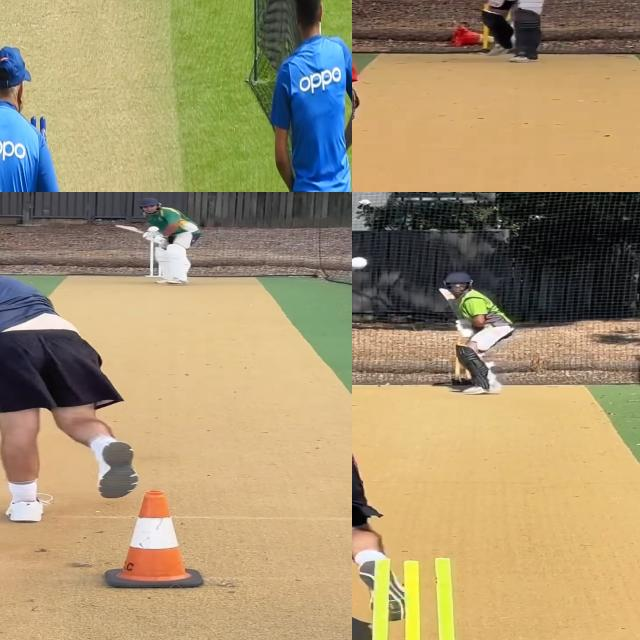Cricket ball: (352, 255, 371, 272), (146, 224, 162, 234)
Stumps: (370, 556, 465, 640)
